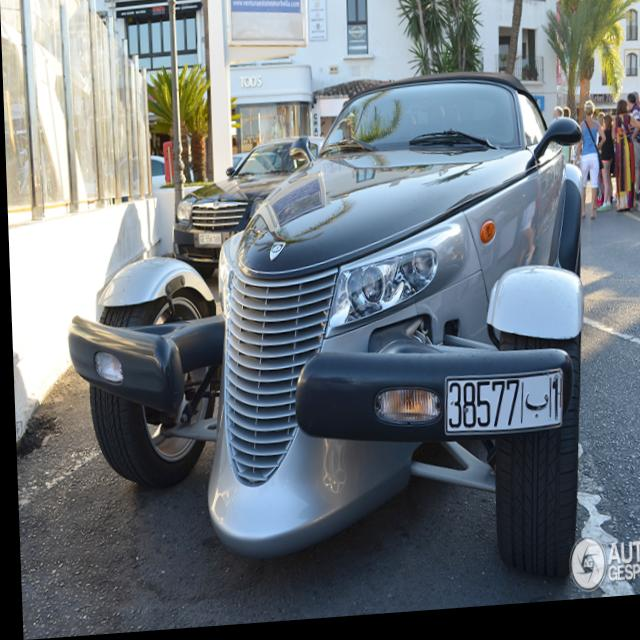License-Plate: (443, 380, 557, 438)
